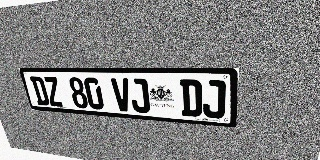0: (83, 77, 105, 110)
8: (67, 77, 89, 109)
D: (180, 79, 202, 117), (29, 76, 50, 106)
J: (203, 80, 226, 119), (129, 78, 151, 113)
V: (111, 78, 132, 112)
Z: (43, 77, 64, 107)
